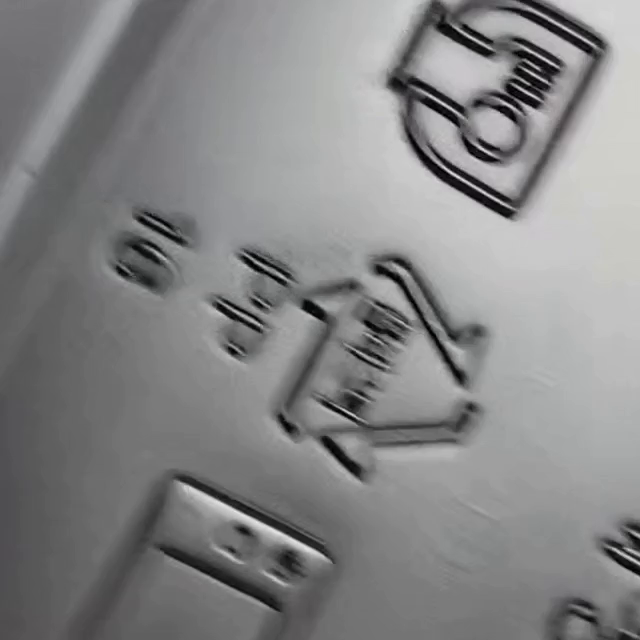Plastic: (274, 255, 489, 484)
